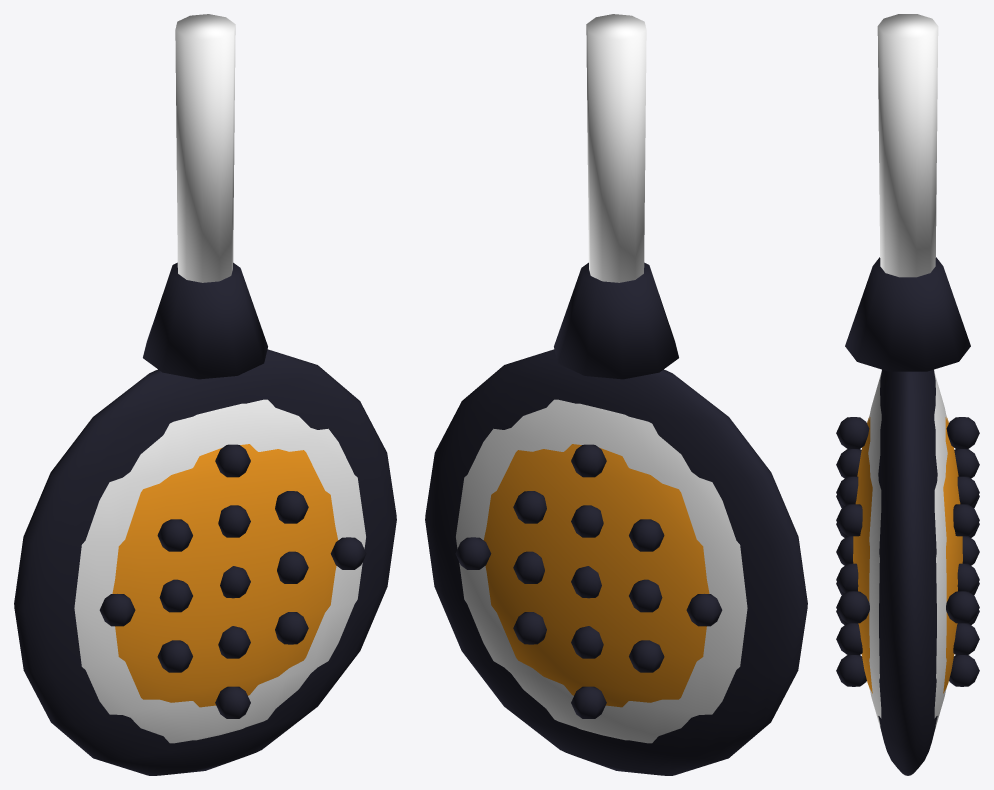
File: racket_power.glb
3 views of the same model, side by side, from view 1: azimuth 30°, elevation 25°; view 2: azimuth 150°, elevation 25°; view 3: azimuth 270°, elevation 25° (orthographic).
Visible parts, largest first — view 1: Racket; view 2: Racket; view 3: Racket.
Boxes of the visible parts, x1,y1,x2,y2 form: Racket: [14, 14, 396, 775]; Racket: [425, 14, 807, 775]; Racket: [836, 14, 979, 775].
Size of the model in its own units: 0.344 by 0.64 by 0.114.
